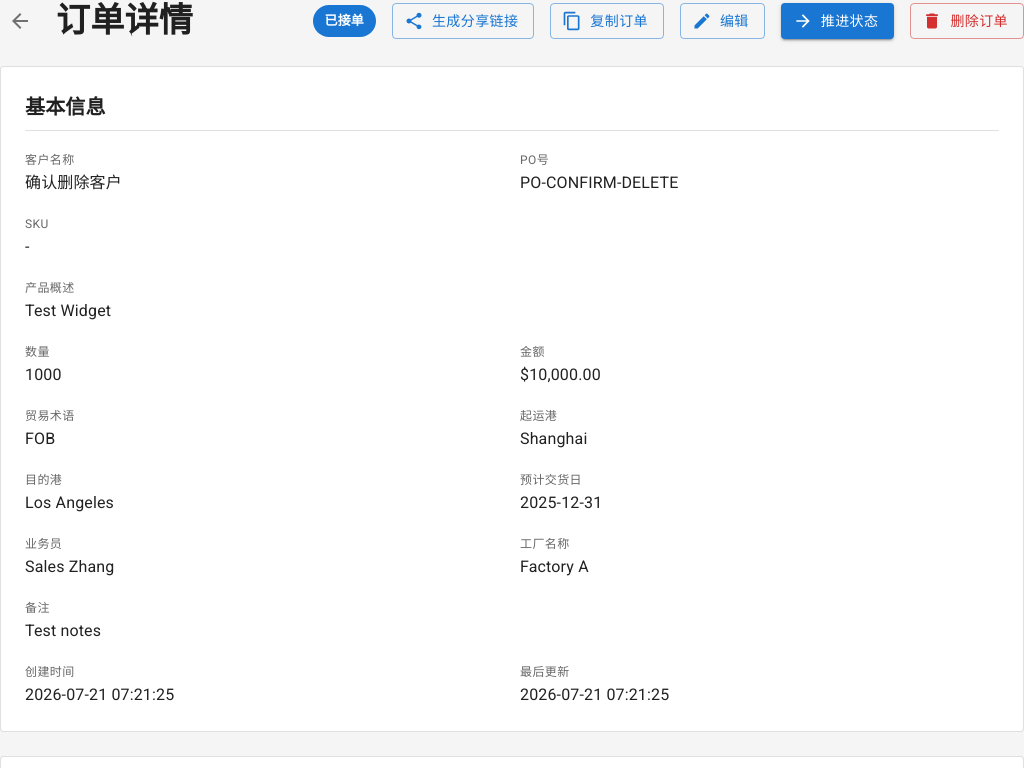
Test: OrderDetail — 删除确认 Dialog › 点击删除按钮打开确认 Dialog
The width and height of the screenshot is (1024, 768).
Click the button "删除订单" at (967, 21), box [910,3,1023,39]
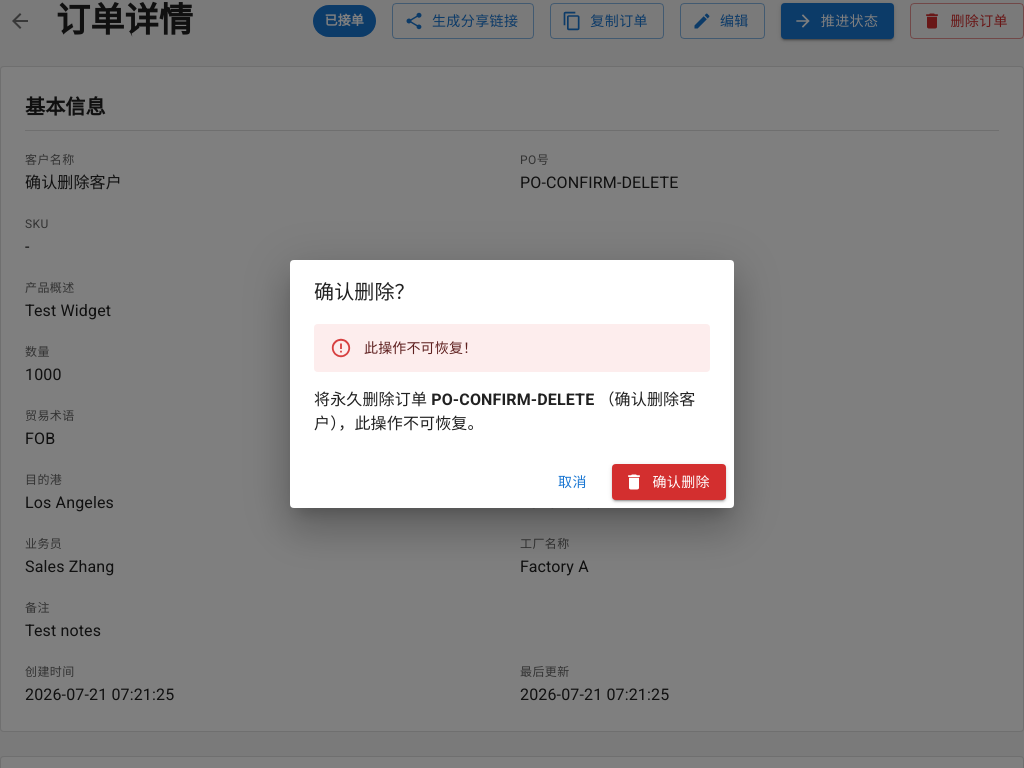
Now the heading "确认删除？" is shown, box [314,280,415,304]
